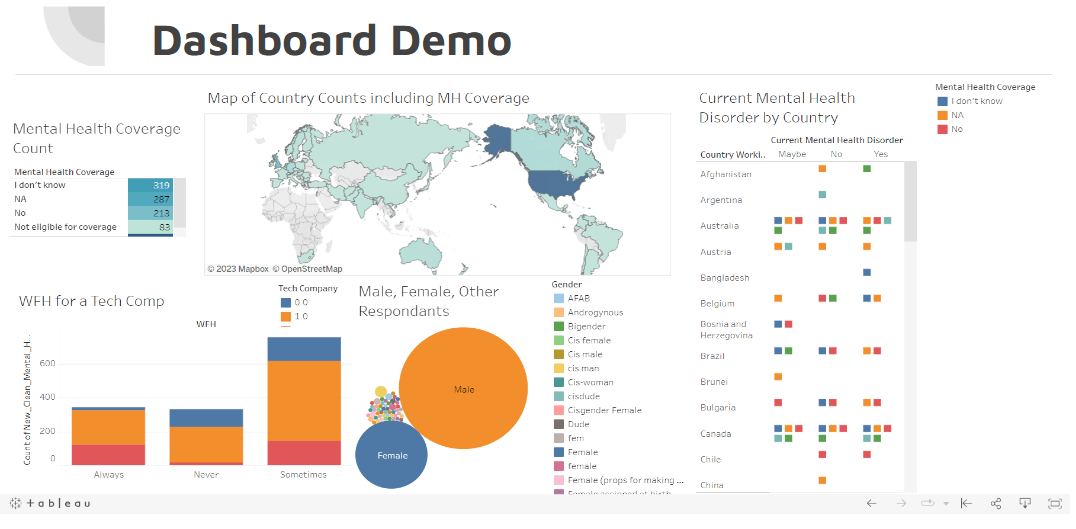

The page's visual inventory and layout, read from the dashboard file:
{"tool":"tableau","page":{"name":"Dashboard 1","canvas":[1000,1000],"units":"permille","ordinal":0},"visuals":[{"type":"worksheet","title":"Number of Mental Health Coverage by Country","mark":"Automatic","box":[1.5,11.8,441.5,592.1]},{"type":"worksheet","title":"Count of Tech Co.(Orange)/Non-Tech(Blue) Employees With Coverage Working From Home","mark":"Automatic","rows":["MENTAL_HEALTH_COVERAGE"],"cols":["WFH"],"box":[715.5,17.7,275.5,963.2]},{"type":"legend","title":"Count of Tech Co.(Orange)/Non-Tech(Blue) Employees With Coverage Working From Home","param":"[federated.02xdez90ereima1a38fdu17nb9f2].[none:TECH_COMPANY:nk]","box":[595.5,30.9,105.7,85.4]},{"type":"filter","title":"Number of Mental Health Coverage by Country","param":"[federated.02xdez90ereima1a38fdu17nb9f2].[none:MENTAL_HEALTH_COVERAGE:nk]","box":[442.6,31.8,121,275.3]},{"type":"filter","title":"Count of Tech Co.(Orange)/Non-Tech(Blue) Employees With Coverage Working From Home","param":"[federated.02xdez90ereima1a38fdu17nb9f2].[none:TECH_COMPANY:nk]","box":[594,132.6,120.8,153.2]},{"type":"image","param":"Image/FP_ML_acc.png","box":[434,328.4,288.3,656.9]},{"type":"worksheet","title":"Current Mental Health Disorder Percentages With/Without Coverage","mark":"Square","rows":["CURRENT_MENTAL_HEALTH_DISORDER"],"cols":["MENTAL_HEALTH_COVERAGE"],"box":[24.9,631.8,368.3,332.8]}]}

Visuals, with their boxes on the dashboard's canvas, which has no fixed pixel size, in thousandths of its width and height (x1, y1, x2, y2). These are canvas units, not pixel positions in the 1076x529 screenshot, which may show the page scaled, cropped or inside an application window:
"Number of Mental Health Coverage by Country" worksheet: [left=2, top=12, right=443, bottom=604]
"Count of Tech Co.(Orange)/Non-Tech(Blue) Employees With Coverage Working From Home" worksheet: [left=716, top=18, right=991, bottom=981]
"Count of Tech Co.(Orange)/Non-Tech(Blue) Employees With Coverage Working From Home" legend: [left=596, top=31, right=701, bottom=116]
"Number of Mental Health Coverage by Country" filter: [left=443, top=32, right=564, bottom=307]
"Count of Tech Co.(Orange)/Non-Tech(Blue) Employees With Coverage Working From Home" filter: [left=594, top=133, right=715, bottom=286]
image: [left=434, top=328, right=722, bottom=985]
"Current Mental Health Disorder Percentages With/Without Coverage" worksheet (Square marks): [left=25, top=632, right=393, bottom=965]
